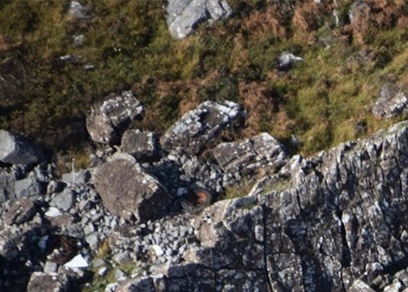white_in_green: (164, 167, 231, 232)
